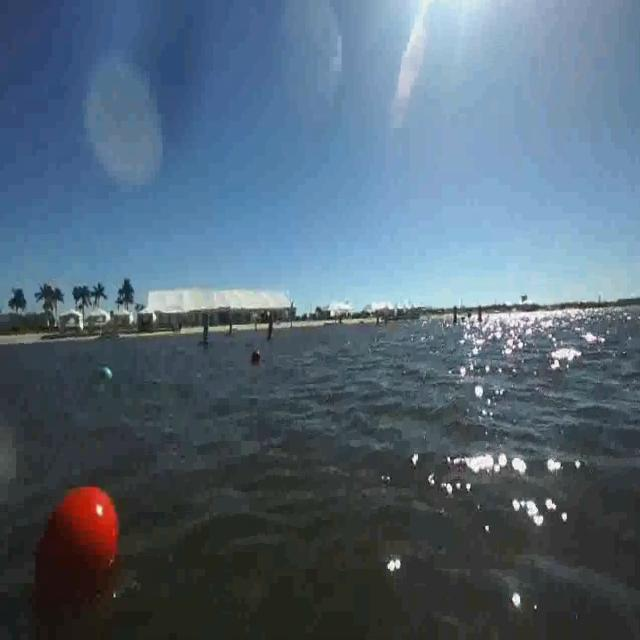black-buoy: (249, 350, 263, 366)
green-buoy: (102, 366, 112, 378)
green-column-buoy: (200, 320, 212, 348)
red-buoy: (25, 476, 134, 632)
